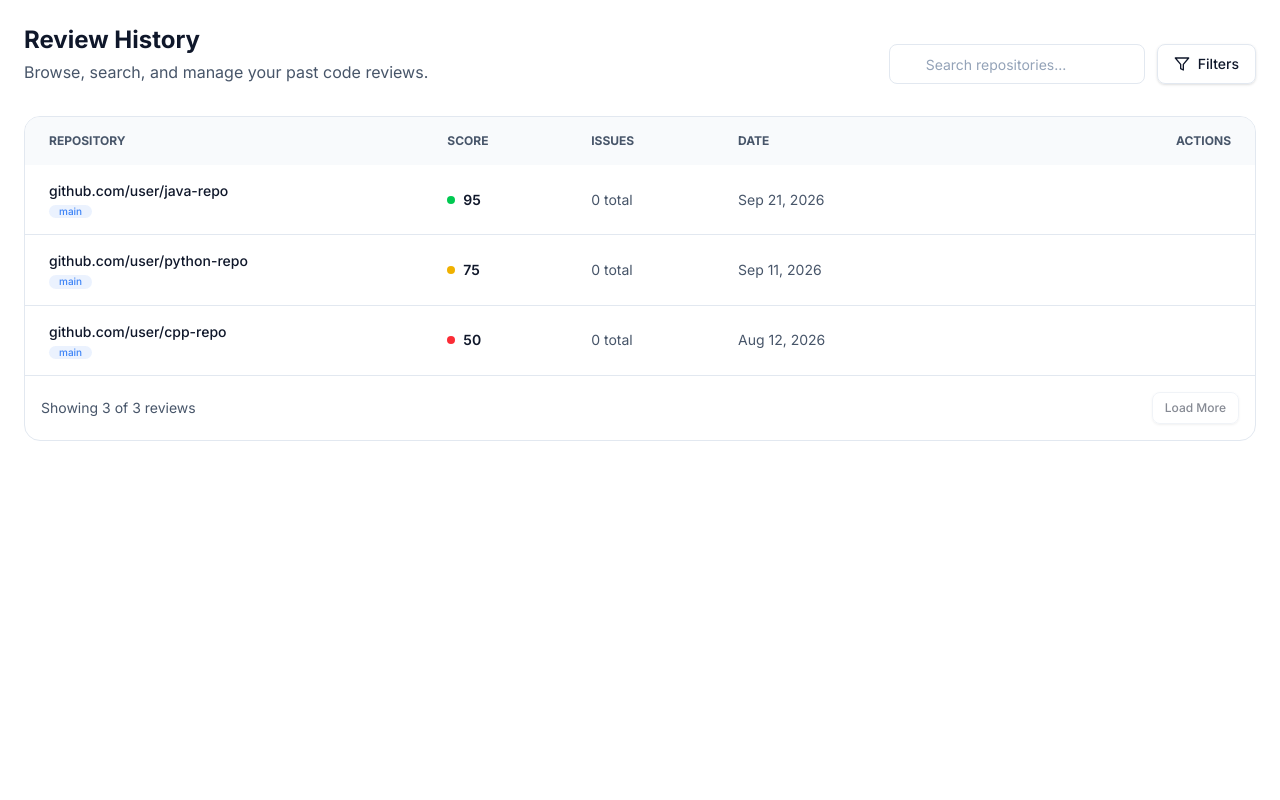
Scenario: HistoryPage Filters › Minimum score filter works
Expected: the link "github.com/user/java-repo" is shown, [49,182,228,199]
Click the button "Filters": (1206, 64) [1157,44,1256,84]
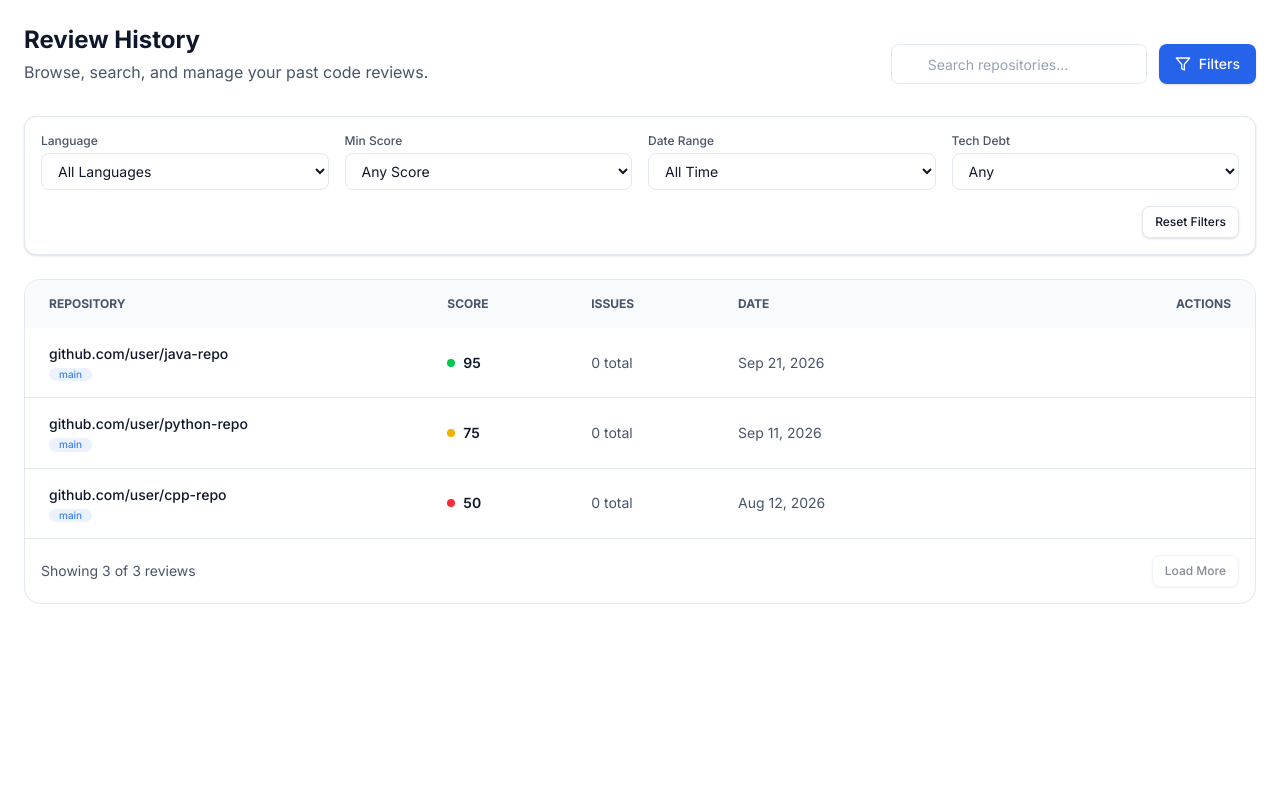
Select "> 80" in the dropdown labelled "Min Score": (488, 172) [344,153,632,190]
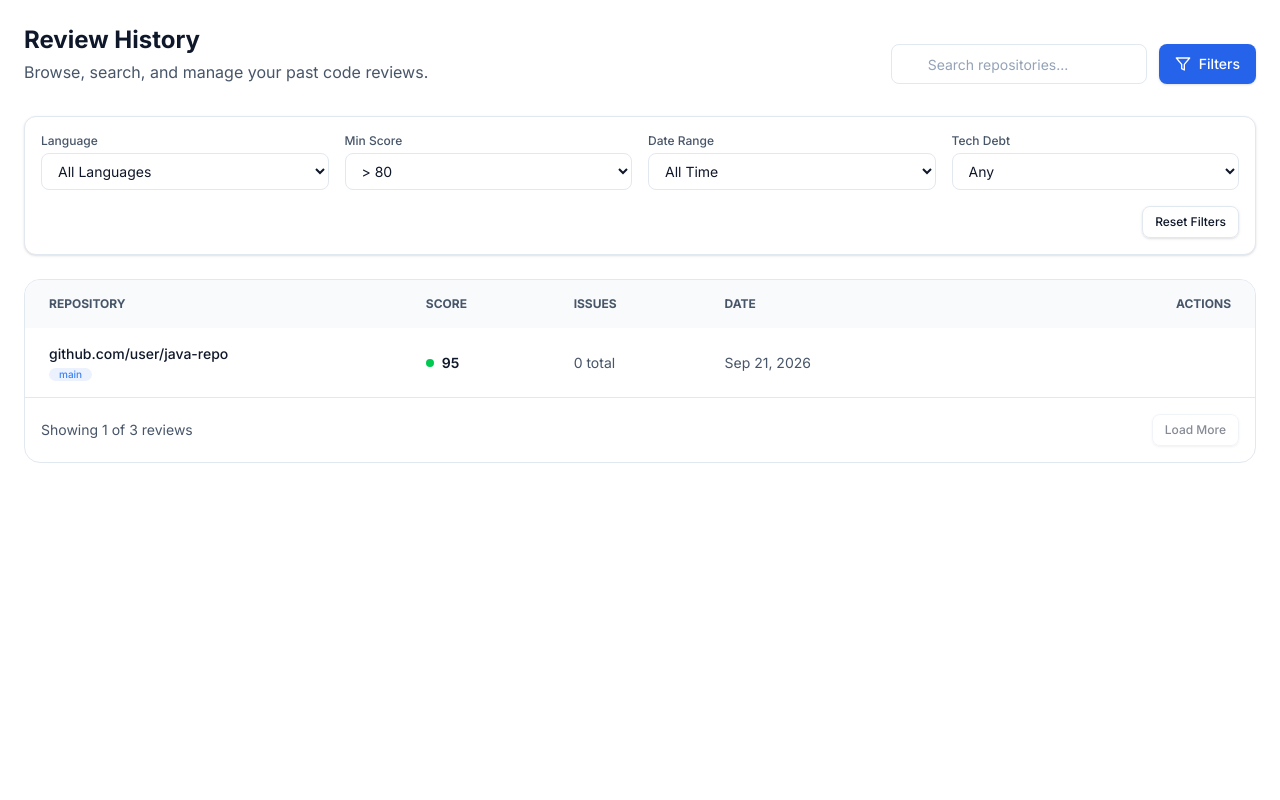
Expected: the link "github.com/user/java-repo" is shown, [49,345,228,362]
Now the link "github.com/user/python-repo" is gone
Now the link "github.com/user/cpp-repo" is gone
